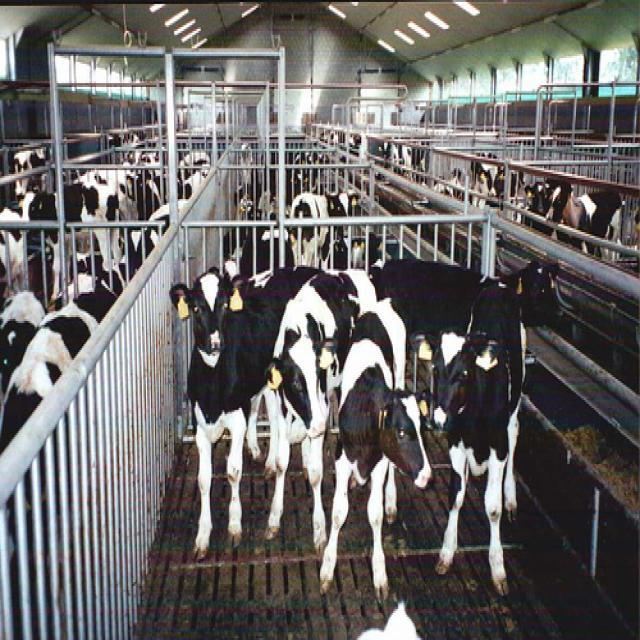cow: (0, 118, 515, 450), (167, 263, 322, 559), (413, 279, 528, 594), (319, 294, 430, 601), (261, 265, 376, 561), (371, 255, 562, 331), (4, 180, 118, 292), (0, 286, 51, 412), (288, 187, 358, 265), (544, 180, 617, 242), (333, 229, 394, 281), (6, 143, 50, 199), (124, 170, 160, 215), (523, 178, 551, 215)
